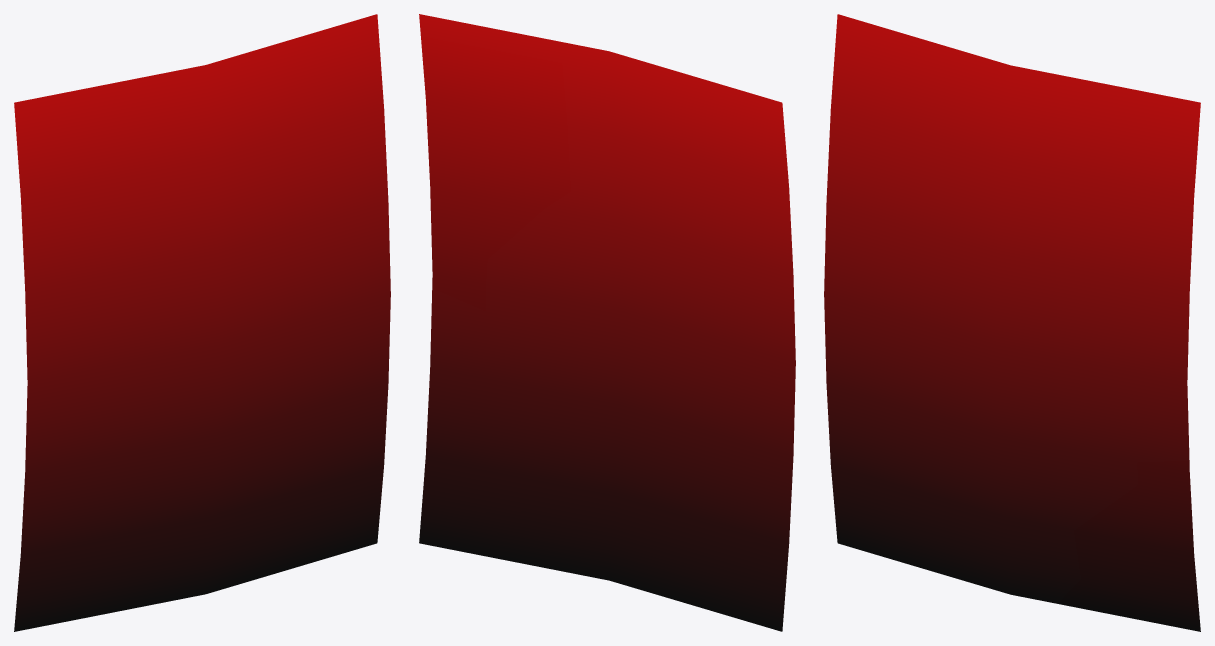
Rendered from flor1.fbx.
The picture shows the model from 3 angles, left to right: view 1: azimuth 30°, elevation 25°; view 2: azimuth 150°, elevation 25°; view 3: azimuth 330°, elevation 25°; orthographic projection.
Visible parts, largest first — view 1: flor1; view 2: flor1; view 3: flor1.
Boxes of the visible parts, <box> form: flor1: <box>14,14,390,631</box>; flor1: <box>419,14,795,631</box>; flor1: <box>824,14,1200,631</box>.
Size of the model in its own units: 0.7256 by 1.01 by 0.079.
